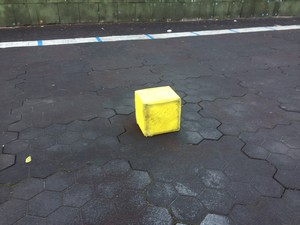cube: (135, 86, 181, 137)
